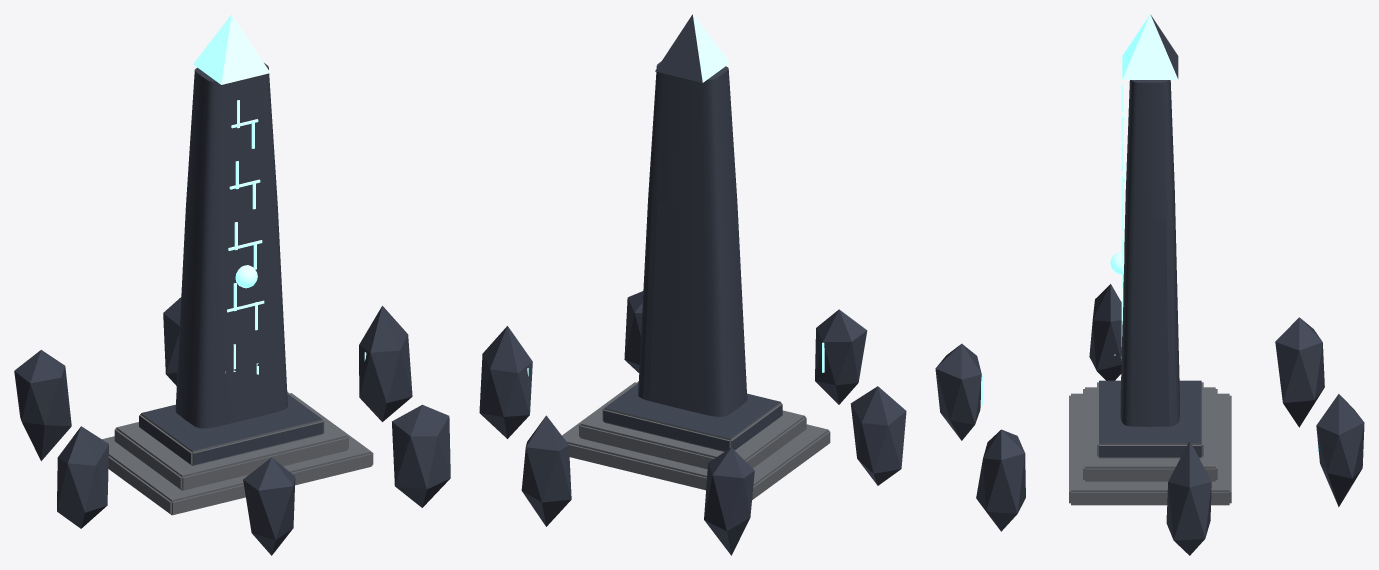
The model's file is monolith.glb.
3 views of the same model, side by side, from view 1: azimuth 30°, elevation 25°; view 2: azimuth 150°, elevation 25°; view 3: azimuth 270°, elevation 25° (orthographic). The views are drawn at different scales.
Parts seen in each view (by area): view 1: Monolith; view 2: Monolith; view 3: Monolith.
Part boxes in pixels (box(x1,y1,x2,y2)): Monolith: box(14, 14, 450, 555); Monolith: box(479, 14, 906, 555); Monolith: box(935, 14, 1364, 555).
Bounding box in the file's own units: 13.49 × 15.63 × 12.95.
